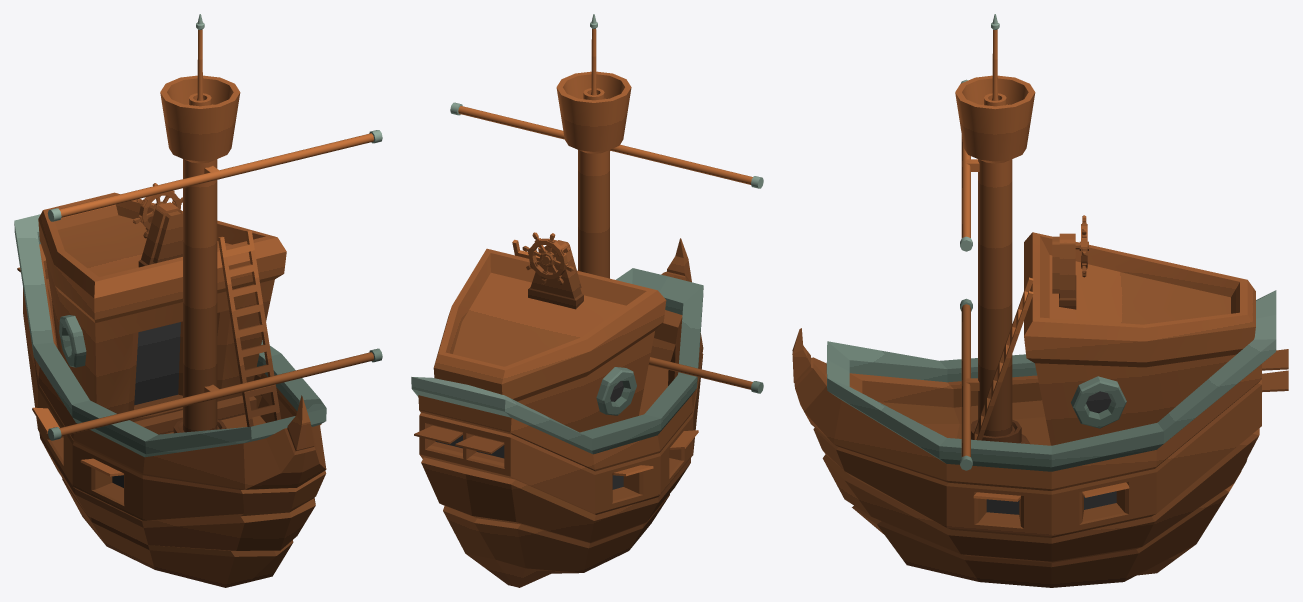
Rendered from pirate_ship.fbx.
The picture shows the model from 3 angles, left to right: view 1: azimuth 30°, elevation 25°; view 2: azimuth 150°, elevation 25°; view 3: azimuth 270°, elevation 25°; orthographic projection. The views are drawn at different scales.
Visible parts, largest first — view 1: Cube.014, Cube.015, Cylinder.023, Cube.017, Cylinder.024, Cube.023, Cube.021, Cylinder.027, Cube.016; view 2: Cube.014, Cube.015, Cube.017, Cylinder.023, Cylinder.024, Cube.021, Cylinder.027, Cube.001, Cube.016; view 3: Cube.014, Cube.015, Cube.017, Cylinder.023, Cylinder.024, Cube.021, Cylinder.027, Cube.023, Cube.001, Cube.016.
Boxes of the visible parts, x1,y1,x2,y2 form: Cube.014: [23, 244, 326, 587]; Cube.015: [38, 192, 286, 434]; Cylinder.023: [160, 14, 240, 432]; Cube.017: [14, 214, 326, 457]; Cylinder.024: [47, 130, 382, 440]; Cube.023: [218, 230, 280, 426]; Cube.021: [133, 183, 182, 267]; Cylinder.027: [59, 315, 86, 367]; Cube.016: [32, 407, 321, 476]; Cube.014: [418, 238, 703, 587]; Cube.015: [433, 248, 666, 432]; Cube.017: [411, 268, 703, 454]; Cylinder.023: [556, 14, 631, 278]; Cylinder.024: [450, 102, 763, 393]; Cube.021: [522, 232, 583, 309]; Cylinder.027: [596, 367, 636, 415]; Cube.001: [414, 425, 504, 454]; Cube.016: [612, 430, 698, 476]; Cube.014: [792, 328, 1261, 587]; Cube.015: [1024, 232, 1255, 445]; Cube.017: [826, 290, 1276, 471]; Cylinder.023: [955, 14, 1035, 436]; Cylinder.024: [960, 79, 979, 470]; Cube.021: [1052, 215, 1088, 309]; Cylinder.027: [1071, 376, 1126, 428]; Cube.023: [972, 277, 1033, 440]; Cube.001: [1262, 349, 1288, 392]; Cube.016: [973, 482, 1129, 501].
Bounding box in the file's own units: 361 × 591 × 472.
